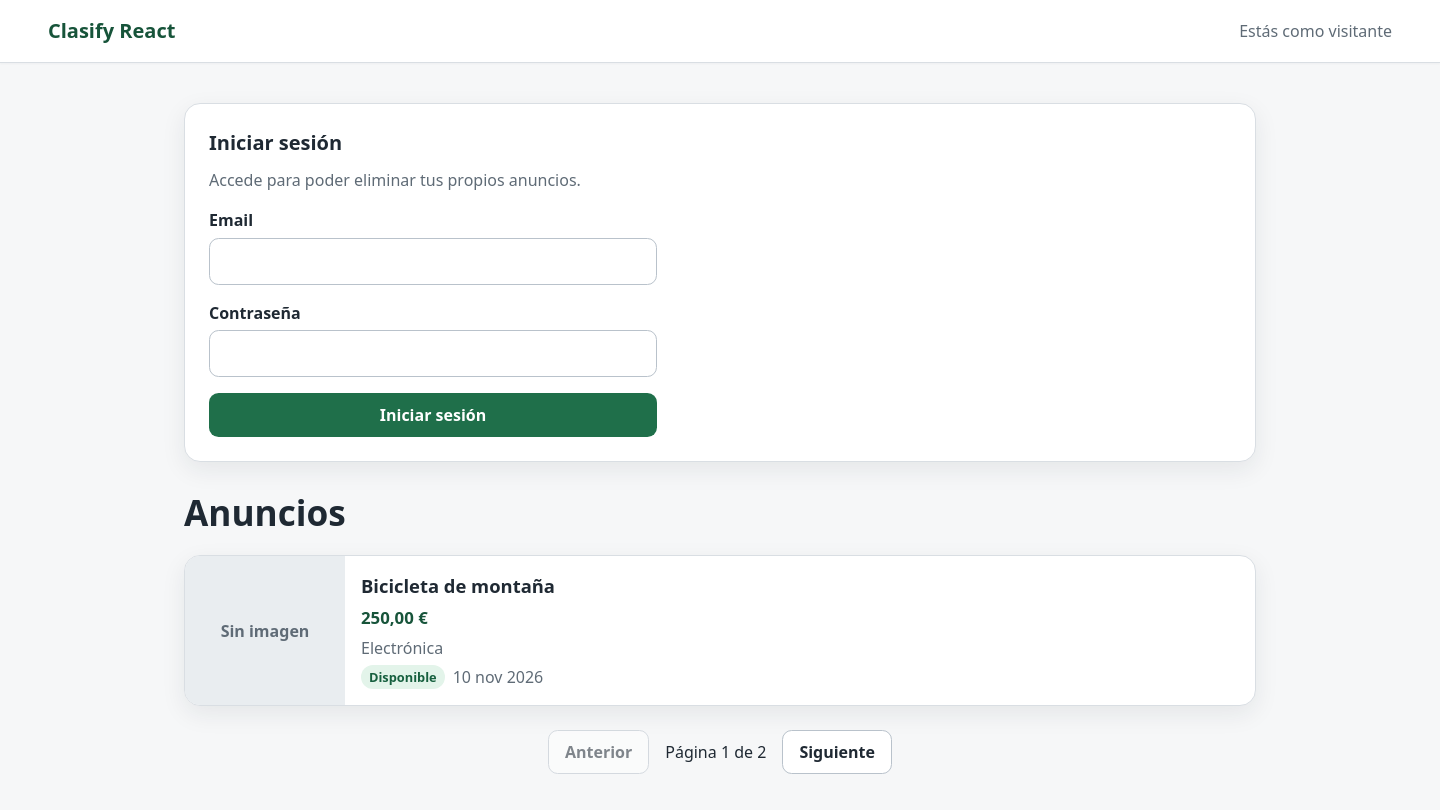
Test: paginación del listado › carga la página siguiente y actualiza los controles
expect the text "Página 1 de 2" is shown: met, box x1=665 y1=740 x2=766 y2=764
expect the button "Anterior" is disabled: met, box x1=548 y1=730 x2=649 y2=774
Click the button "Siguiente" at (837, 752), box x1=782 y1=730 x2=892 y2=774
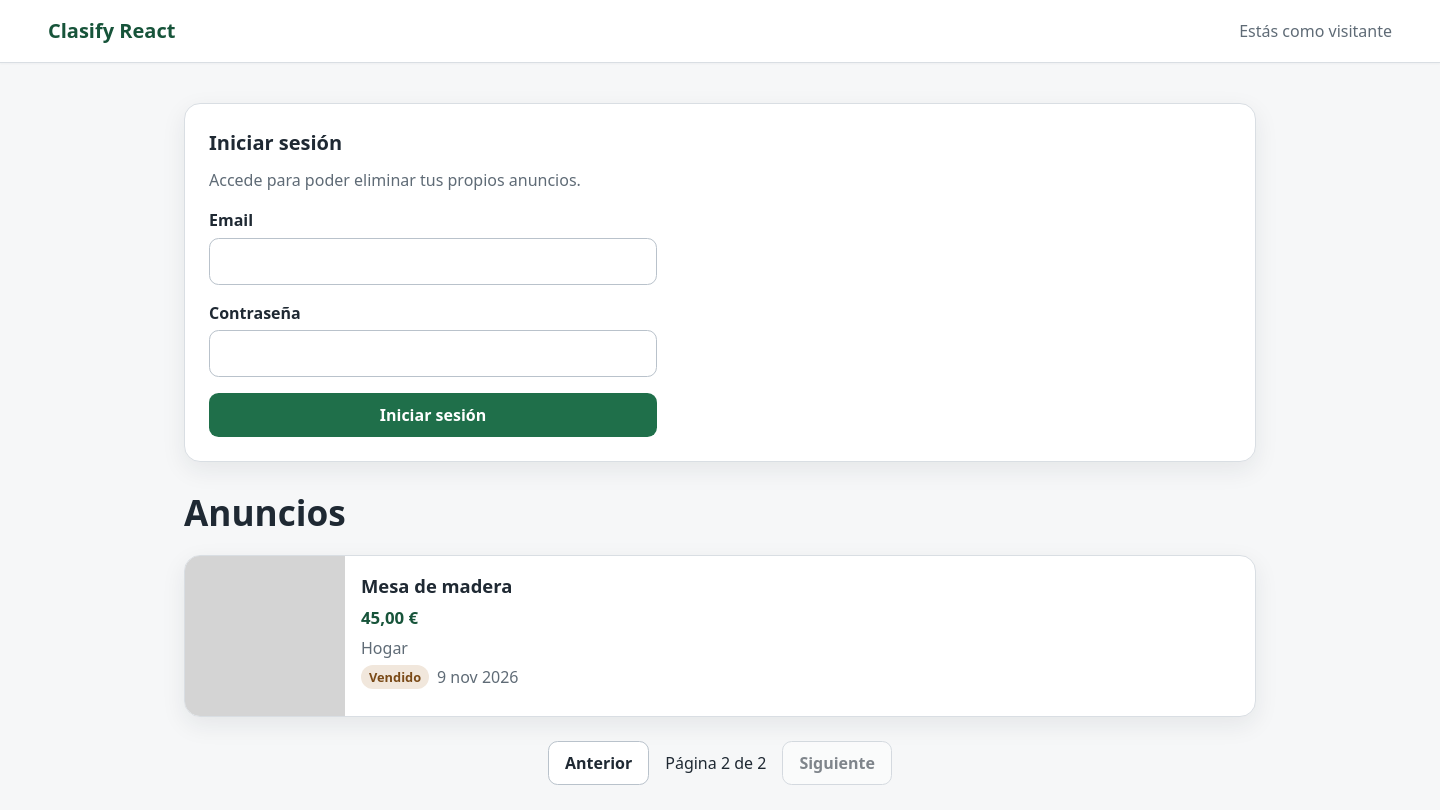
expect the text "Página 2 de 2" is shown: met, box x1=665 y1=751 x2=766 y2=775
expect the button "Siguiente" is disabled: met, box x1=782 y1=741 x2=892 y2=785
